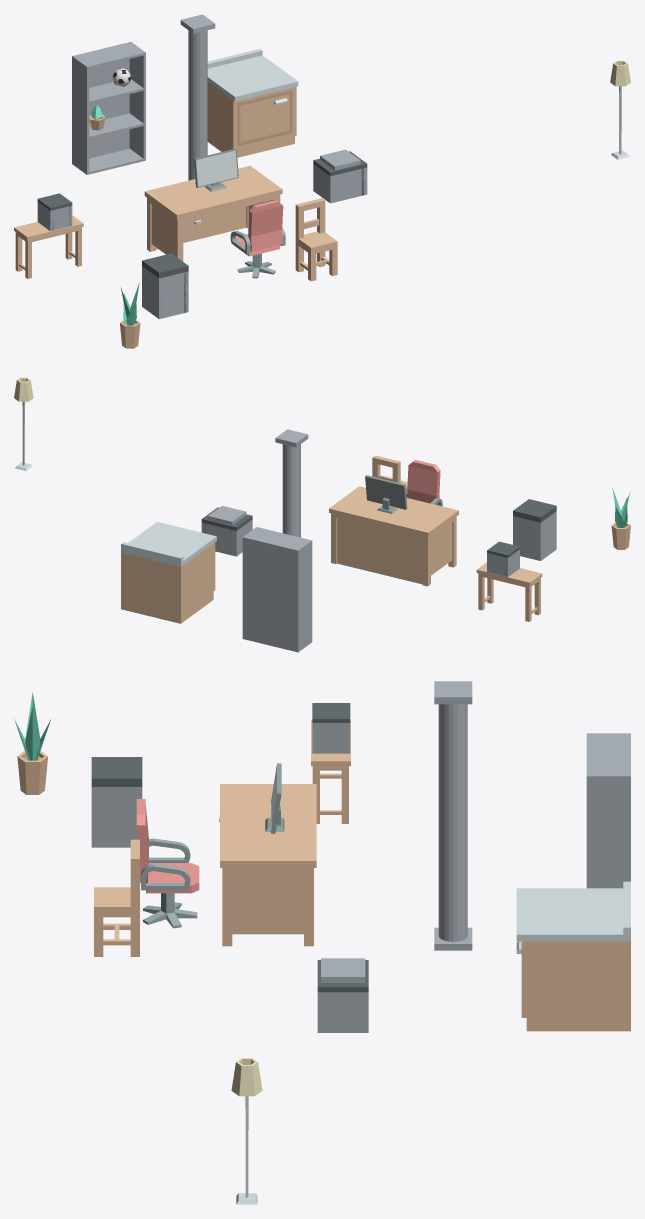
3 renders of one model, top to bottom at view 1: azimuth 30°, elevation 25°; view 2: azimuth 150°, elevation 25°; view 3: azimuth 270°, elevation 25°, orthographic. The views are drawn at different scales.
Parts seen in each view (by area): view 1: desk_blue__desk(Clone), cabinet_blue__kitchenCabinet(Clone), column_cyan__column_cyan shaft, cabinet_blue__door, chair_cyan__chair(Clone), shelf_orange__shelf_orange back, deskchair_black__chair, shelf_orange__shelf_orange side_l, bin_gray__bin_gray shell, sidetable_brown__sideTable(Clone), crate_red__crate_red shell, monitor_gray__computerScreen(Clone) (+10 smaller); view 2: desk_blue__desk(Clone), cabinet_blue__kitchenCabinet(Clone), shelf_orange__shelf_orange back, shelf_orange__shelf_orange side_l, column_cyan__column_cyan shaft, bin_gray__bin_gray shell, sidetable_brown__sideTable(Clone), deskchair_black__chair, monitor_gray__computerScreen(Clone), crate_red__crate_red shell, shelf_orange__shelf_orange board3, lamp_white__lampRoundFloor(Clone) (+6 smaller); view 3: cabinet_blue__kitchenCabinet(Clone), desk_blue__desk(Clone), column_cyan__column_cyan shaft, shelf_orange__shelf_orange side_r, chair_cyan__chair(Clone), deskchair_black__chair, bin_gray__bin_gray shell, crate_red__crate_red shell, shelf_orange__shelf_orange board3, sidetable_brown__sideTable(Clone), lamp_white__lampRoundFloor(Clone), bin_gray__bin_gray lid (+8 smaller).
Boxes of the visible parts, bbox=[...] form: desk_blue__desk(Clone): bbox=[144, 165, 282, 261]; cabinet_blue__kitchenCabinet(Clone): bbox=[207, 49, 298, 157]; column_cyan__column_cyan shaft: bbox=[188, 30, 207, 180]; cabinet_blue__door: bbox=[237, 90, 292, 146]; chair_cyan__chair(Clone): bbox=[295, 198, 337, 281]; shelf_orange__shelf_orange back: bbox=[74, 42, 129, 158]; deskchair_black__chair: bbox=[230, 200, 285, 256]; shelf_orange__shelf_orange side_l: bbox=[72, 55, 89, 174]; bin_gray__bin_gray shell: bbox=[142, 266, 188, 319]; sidetable_brown__sideTable(Clone): bbox=[14, 215, 83, 278]; crate_red__crate_red shell: bbox=[313, 164, 367, 203]; monitor_gray__computerScreen(Clone): bbox=[194, 148, 238, 191]; desk_blue__desk(Clone): bbox=[329, 486, 458, 586]; cabinet_blue__kitchenCabinet(Clone): bbox=[121, 522, 216, 623]; shelf_orange__shelf_orange back: bbox=[244, 537, 296, 651]; shelf_orange__shelf_orange side_l: bbox=[296, 540, 312, 652]; column_cyan__column_cyan shaft: bbox=[282, 444, 300, 537]; bin_gray__bin_gray shell: bbox=[513, 511, 556, 560]; sidetable_brown__sideTable(Clone): bbox=[476, 562, 542, 621]; deskchair_black__chair: bbox=[406, 460, 442, 506]; monitor_gray__computerScreen(Clone): bbox=[365, 475, 407, 513]; crate_red__crate_red shell: bbox=[201, 519, 252, 556]; shelf_orange__shelf_orange board3: bbox=[246, 527, 309, 549]; lamp_white__lampRoundFloor(Clone): bbox=[14, 377, 33, 470]; cabinet_blue__kitchenCabinet(Clone): bbox=[516, 881, 630, 1031]; desk_blue__desk(Clone): bbox=[220, 784, 316, 946]; column_cyan__column_cyan shaft: bbox=[438, 704, 467, 941]; shelf_orange__shelf_orange side_r: bbox=[586, 774, 630, 888]; chair_cyan__chair(Clone): bbox=[94, 839, 139, 956]; deskchair_black__chair: bbox=[136, 799, 199, 893]; bin_gray__bin_gray shell: bbox=[91, 787, 142, 847]; crate_red__crate_red shell: bbox=[317, 992, 368, 1032]; shelf_orange__shelf_orange board3: bbox=[586, 734, 628, 774]; sidetable_brown__sideTable(Clone): bbox=[311, 720, 350, 823]; lamp_white__lampRoundFloor(Clone): bbox=[231, 1058, 262, 1204]; bin_gray__bin_gray lid: bbox=[91, 757, 142, 786].
Bounding box in the file's own units: 7.86 × 2.2 × 4.86.
